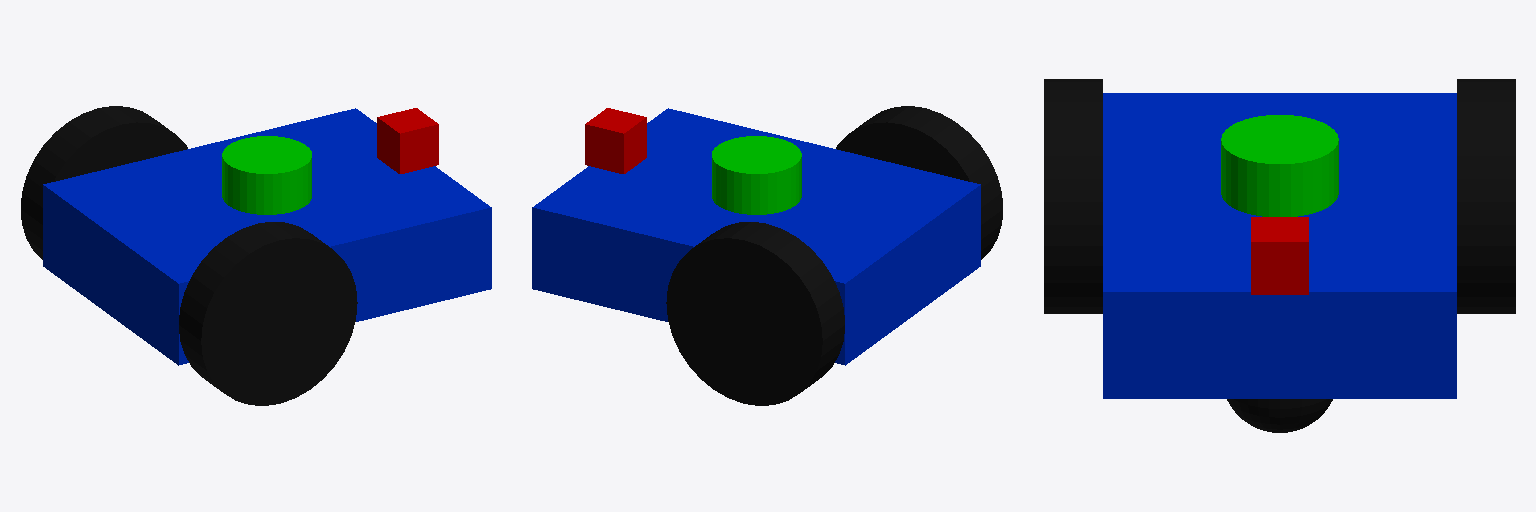
URDF robot description (visiobot):
<?xml version="1.0"?>
<robot name="visiobot">

  <link name="base_link">
    <visual>
      <geometry>
        <box size="0.4 0.3 0.1"/>
      </geometry>
      <material name="blue">
        <color rgba="0.0 0.2 0.8 1.0"/>
      </material>
    </visual>
  </link>

  <link name="right_wheel">
    <visual>
      <geometry>
        <cylinder radius="0.1" length="0.05"/>
      </geometry>
      <material name="black">
        <color rgba="0.1 0.1 0.1 1.0"/>
      </material>
    </visual>
  </link>
  <joint name="base_to_right_wheel" type="continuous">
    <parent link="base_link"/>
    <child link="right_wheel"/>
    <origin xyz="-0.1 -0.175 0" rpy="1.5708 0 0"/>
    <axis xyz="0 0 -1"/>
  </joint>

  <link name="left_wheel">
    <visual>
      <geometry>
        <cylinder radius="0.1" length="0.05"/>
      </geometry>
      <material name="black">
        <color rgba="0.1 0.1 0.1 1.0"/>
      </material>
    </visual>
  </link>
  <joint name="base_to_left_wheel" type="continuous">
    <parent link="base_link"/>
    <child link="left_wheel"/>
    <origin xyz="-0.1 0.175 0" rpy="-1.5708 0 0"/>
    <axis xyz="0 0 1"/>
  </joint>

  <link name="caster_wheel">
    <visual>
      <geometry>
        <sphere radius="0.05"/>
      </geometry>
      <material name="black">
        <color rgba="0.1 0.1 0.1 1.0"/>
      </material>
    </visual>
  </link>
  <joint name="base_to_caster" type="fixed">
    <parent link="base_link"/>
    <child link="caster_wheel"/>
    <origin xyz="0.15 0.0 -0.05" rpy="0 0 0"/>
  </joint>

  <link name="camera_link">
    <visual>
      <geometry>
        <box size="0.05 0.05 0.05"/>
      </geometry>
      <material name="red">
        <color rgba="0.8 0.0 0.0 1.0"/>
      </material>
    </visual>
  </link>
  <joint name="base_to_camera" type="fixed">
    <parent link="base_link"/>
    <child link="camera_link"/>
    <origin xyz="0.18 0.0 0.075" rpy="0 0 0"/>
  </joint>

  <link name="laser_link">
    <visual>
      <geometry>
        <cylinder radius="0.05" length="0.05"/>
      </geometry>
      <material name="green">
        <color rgba="0.0 0.8 0.0 1.0"/>
      </material>
    </visual>
  </link>
  <joint name="base_to_laser" type="fixed">
    <parent link="base_link"/>
    <child link="laser_link"/>
    <origin xyz="0.0 0.0 0.075" rpy="0 0 0"/>
  </joint>

</robot>

--- What the picture shows (computed from the rendered views, not written in the file) ---
The picture shows the robot from 3 angles, left to right: view 1: azimuth 30°, elevation 25°; view 2: azimuth 150°, elevation 25°; view 3: azimuth 270°, elevation 25°; orthographic projection.
Robot: visiobot — 6 links, 5 joints (2 continuous, 3 fixed); root link base_link; default pose: every joint at zero.
Visible links, largest first — view 1: base_link, right_wheel, left_wheel, laser_link, camera_link; view 2: base_link, left_wheel, right_wheel, laser_link, camera_link; view 3: base_link, right_wheel, left_wheel, laser_link, camera_link, caster_wheel.
Link boxes in pixels (x1,y1,x2,y2): base_link: (43, 108, 491, 365); right_wheel: (179, 222, 357, 405); left_wheel: (21, 106, 187, 259); laser_link: (222, 136, 311, 214); camera_link: (377, 108, 438, 173); base_link: (532, 108, 980, 365); left_wheel: (666, 222, 844, 405); right_wheel: (836, 106, 1002, 259); laser_link: (712, 136, 801, 214); camera_link: (585, 108, 646, 173); base_link: (1103, 93, 1456, 398); right_wheel: (1044, 79, 1102, 313); left_wheel: (1457, 79, 1515, 313); laser_link: (1221, 115, 1338, 216); camera_link: (1251, 217, 1308, 294); caster_wheel: (1227, 399, 1332, 432).
Bounding box of the posed robot: 0.405 × 0.4 × 0.2 m (x, y, z).
Geometry: primitives only (box / cylinder / sphere), no mesh files.
